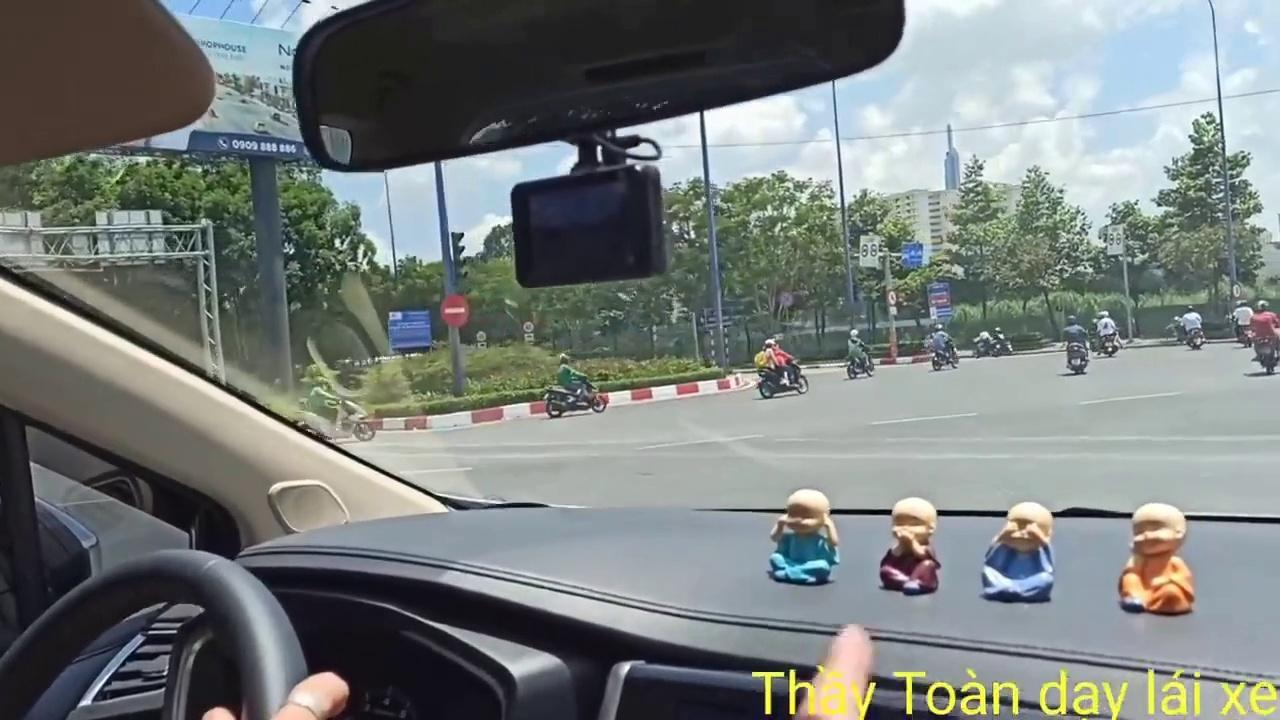Cấm cac phương tiện hoạt động trong khung giờ cố định: (859, 234, 882, 271)
Cấm dừng - Cấm đỗ: (779, 290, 794, 308)
Cấm đi ngược chiều: (439, 291, 472, 329)
Khác: (384, 306, 432, 357), (925, 281, 956, 321)
Làn đường cho từng xe: (900, 241, 924, 272)
